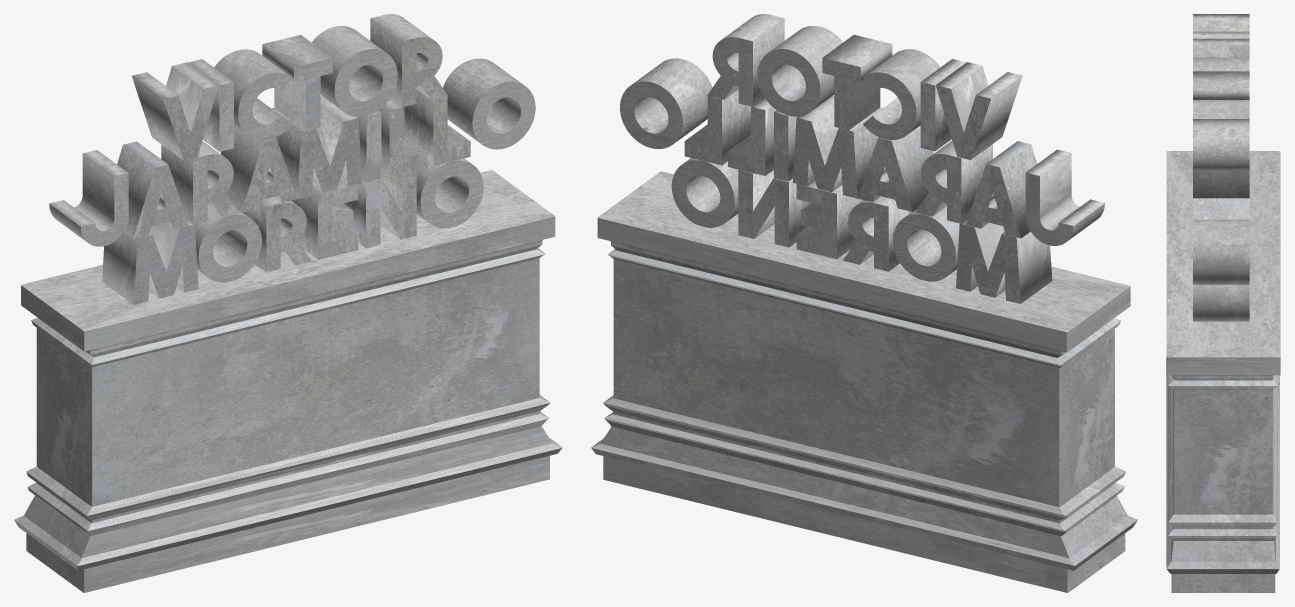
File: victor-jaramillo-moreno.gltf
3 views of the same model, side by side, from view 1: azimuth 30°, elevation 25°; view 2: azimuth 150°, elevation 25°; view 3: azimuth 270°, elevation 25° (orthographic). The views are drawn at different scales.
Visible parts, largest first — view 1: Cube, Text.001; view 2: Cube, Text.001; view 3: Cube, Text.001.
Part boxes in pixels (bbox=[...]): Cube: bbox=[14, 170, 562, 592]; Text.001: bbox=[49, 14, 535, 304]; Cube: bbox=[591, 171, 1137, 592]; Text.001: bbox=[620, 14, 1104, 303]; Cube: bbox=[1166, 151, 1280, 592]; Text.001: bbox=[1193, 14, 1249, 321].
Bounding box in the file's own units: 9.69 × 8.83 × 2.21.
Materials: 2 (2 with a texture image).
